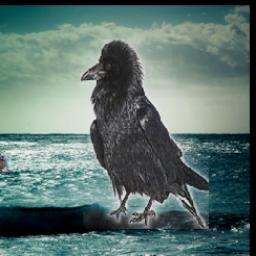Crow: (81, 40, 210, 229)
Cuckoo: (0, 152, 12, 174)
